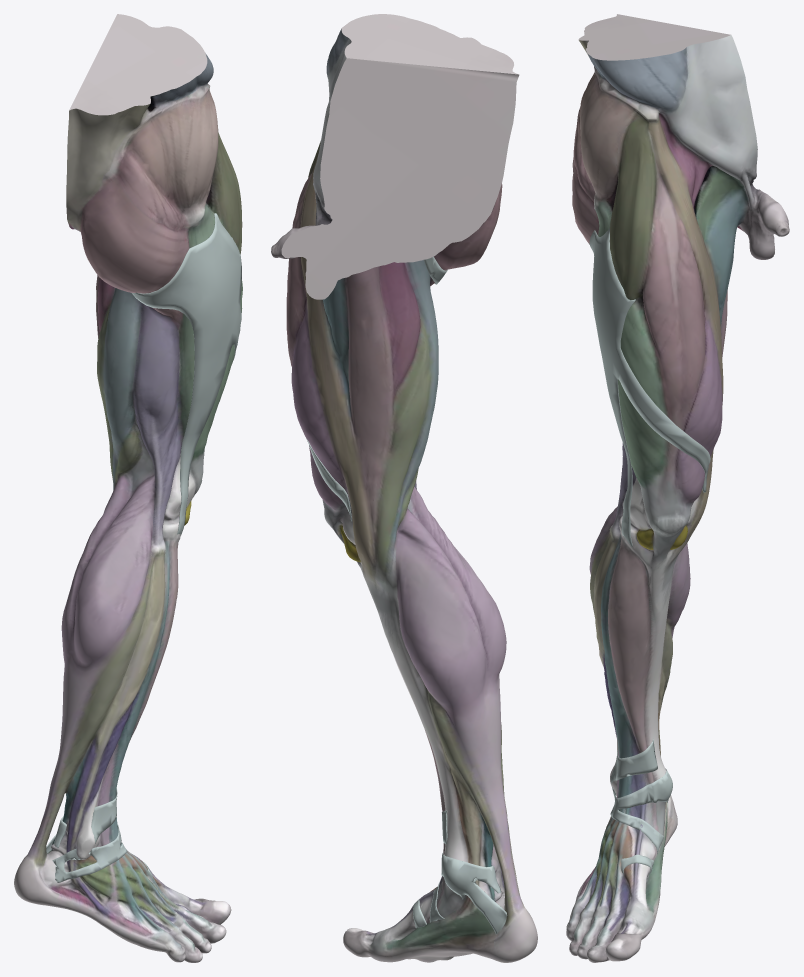
File: 人物其它_Muscle man sections_Straight_right_leg_opt.glb
The picture shows the model from 3 angles, left to right: view 1: azimuth 30°, elevation 25°; view 2: azimuth 150°, elevation 25°; view 3: azimuth 270°, elevation 25°; orthographic projection. The views are drawn at different scales.
Parts seen in each view (by area): view 1: Straight_right_leg_2_1, Straight_right_leg_2_2; view 2: Straight_right_leg_2_1, Straight_right_leg_2_2; view 3: Straight_right_leg_2_1, Straight_right_leg_2_2.
Part boxes in pixels (x1,y1,x2,y2): Straight_right_leg_2_1: (14, 14, 242, 962); Straight_right_leg_2_2: (46, 213, 241, 882); Straight_right_leg_2_1: (271, 14, 537, 962); Straight_right_leg_2_2: (306, 256, 507, 934); Straight_right_leg_2_1: (566, 14, 789, 962); Straight_right_leg_2_2: (589, 228, 710, 876).
Size of the model in its own units: 0.0987 by 0.379 by 0.0836.
Materials: 2 (2 with a texture image).
